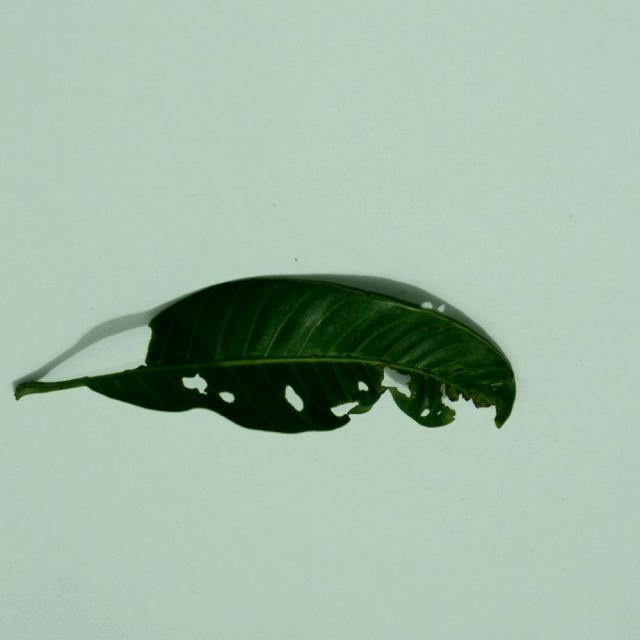Anthracnose: (427, 375, 496, 424), (280, 385, 307, 417), (384, 367, 412, 389), (331, 401, 360, 416), (181, 374, 204, 391), (219, 391, 235, 404), (358, 381, 369, 395), (420, 407, 431, 418), (439, 382, 446, 396), (421, 301, 432, 309), (436, 304, 445, 313), (453, 367, 465, 373), (428, 325, 439, 331), (491, 382, 502, 388), (444, 326, 453, 332)
Mango: (11, 275, 518, 436)
